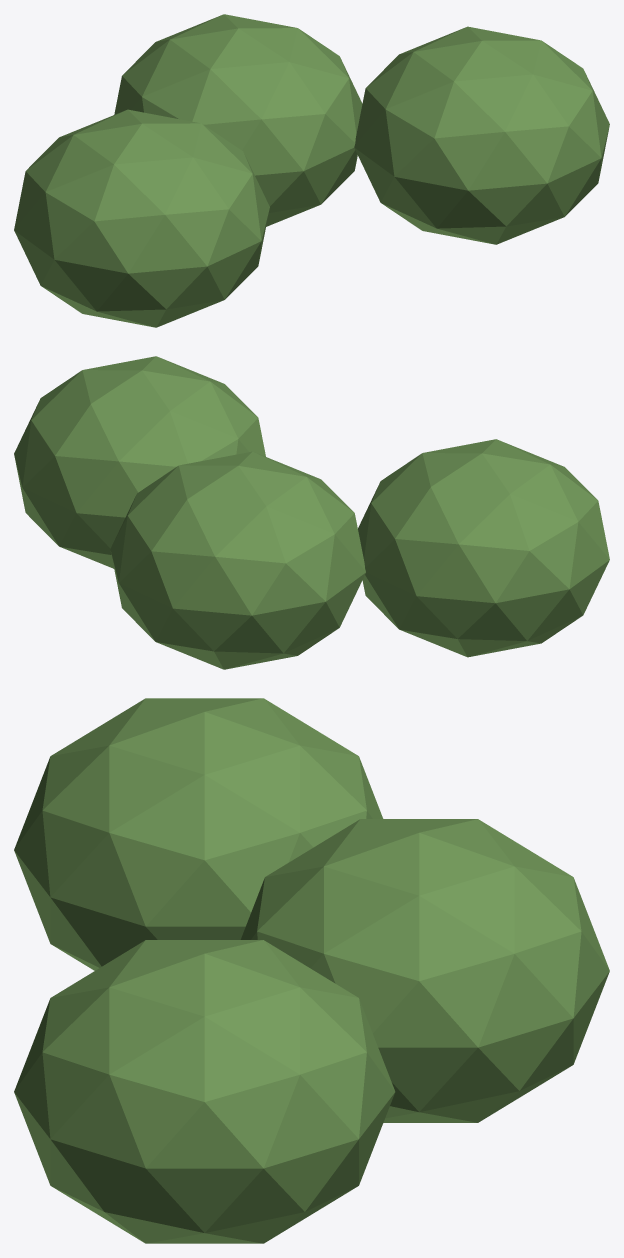
File: Cabbage_Patch_A.glb
The picture shows the model from 3 angles, top to bottom: view 1: azimuth 30°, elevation 25°; view 2: azimuth 150°, elevation 25°; view 3: azimuth 270°, elevation 25°; orthographic projection. The views are drawn at different scales.
Visible parts, largest first — view 1: Cabbage_Patch_A; view 2: Cabbage_Patch_A; view 3: Cabbage_Patch_A.
Boxes of the visible parts, x1,y1,x2,y2 form: Cabbage_Patch_A: (14,14,609,327); Cabbage_Patch_A: (14,356,609,669); Cabbage_Patch_A: (14,698,609,1243).
Bounding box in the file's own units: 0.7843 × 0.256 × 0.5.
